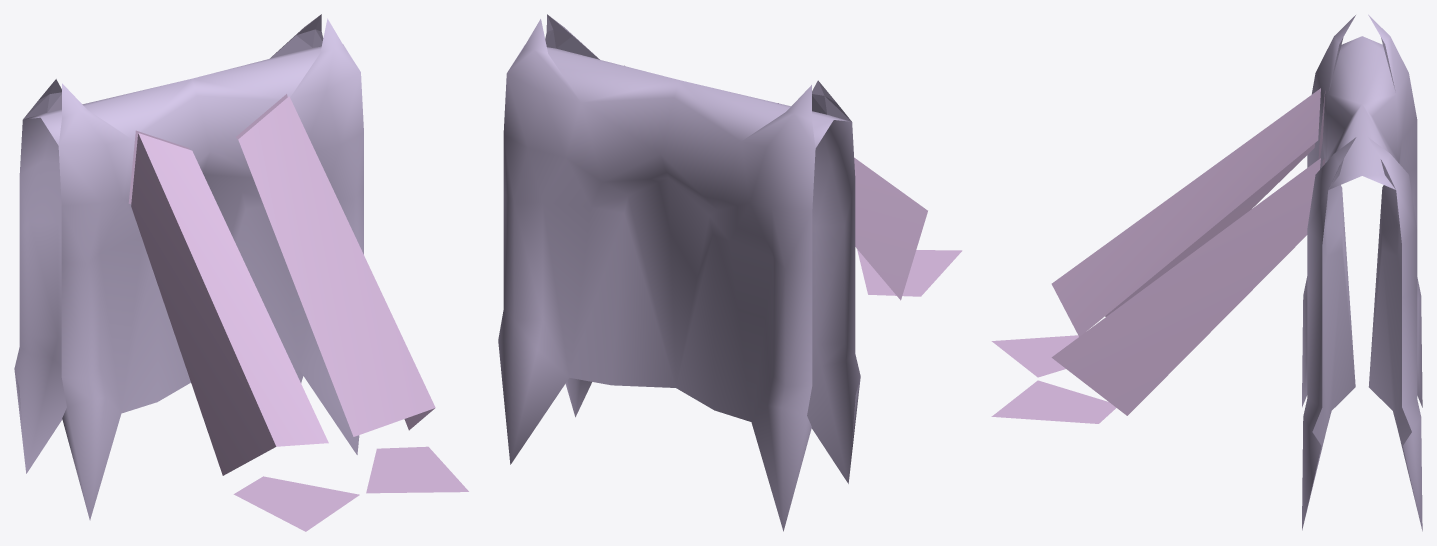
3 views of the same model, side by side, from view 1: azimuth 30°, elevation 25°; view 2: azimuth 150°, elevation 25°; view 3: azimuth 270°, elevation 25° (orthographic). The views are drawn at different scales.
Parts seen in each view (by area): view 1: Object19; view 2: Object19; view 3: Object19.
Boxes of the visible parts, x1,y1,x2,y2 form: Object19: (14, 14, 468, 531); Object19: (498, 14, 962, 531); Object19: (991, 14, 1422, 531).
Size of the model in its own units: 300 by 395 by 391.
